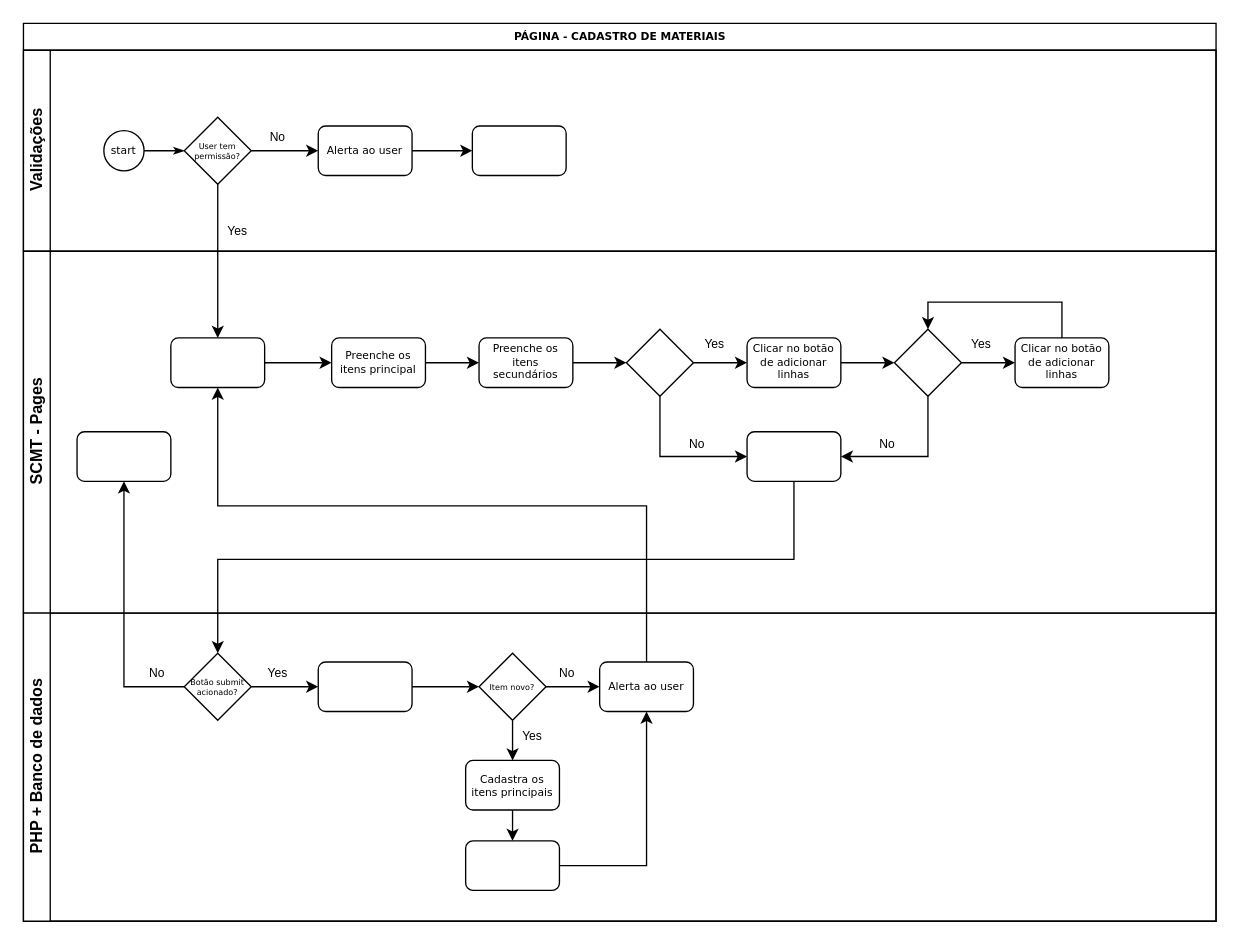
The diagram is 1240 pixels wide and 945 high, and some of its shapes have lost their labels. The centre of each missing label's shape, as x and y in pixels:
"Acessa a página" goes at pixel 217 362.
"Cadastra os itens secundários" goes at pixel 511 865.
"Direciona para a page Home" goes at pixel 518 150.
"Fica na página" goes at pixel 123 455.
"Mais de um item secundário?" goes at pixel 659 362.
"Precisa adicionar mais itens secundários?" goes at pixel 927 362.
"Preenchimento completo do formulário" goes at pixel 793 455.
"Recebe os valores do formulário" goes at pixel 364 686.
